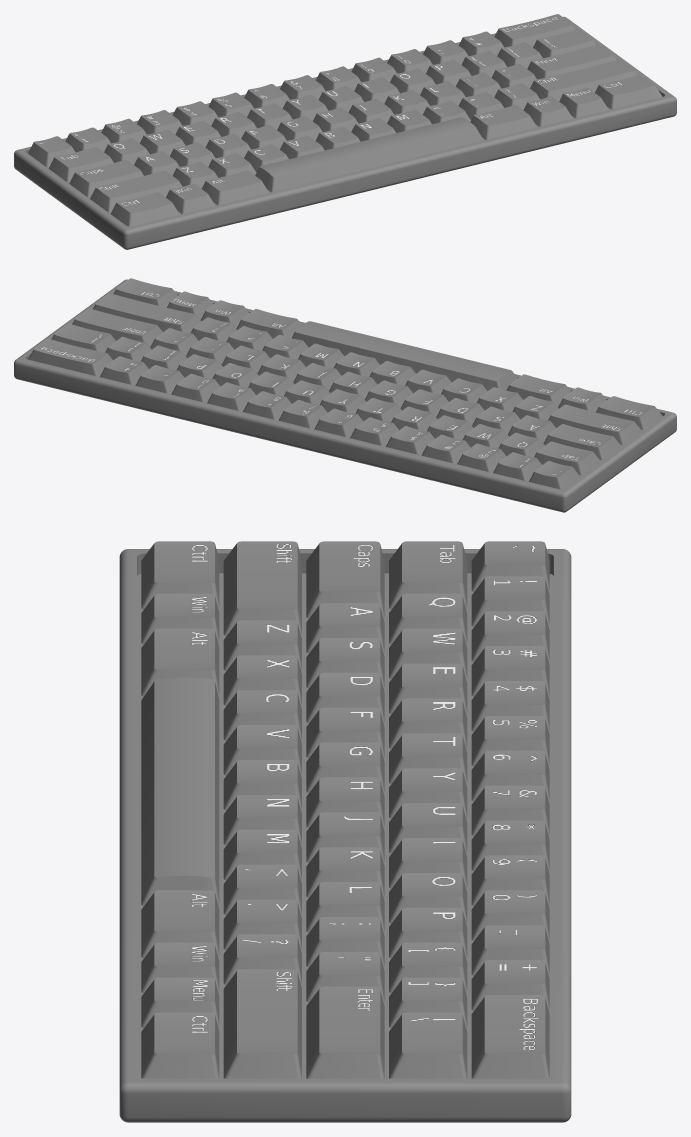
File: Keyboard.fbx
3 views of the same model, one above another, from view 1: azimuth 30°, elevation 25°; view 2: azimuth 150°, elevation 25°; view 3: azimuth 270°, elevation 25° (orthographic). The views are drawn at different scales.
Parts seen in each view (by area): view 1: keyboard_us_compact_horizontal_obj; view 2: keyboard_us_compact_horizontal_obj; view 3: keyboard_us_compact_horizontal_obj.
Part boxes in pixels (x1=…): keyboard_us_compact_horizontal_obj: x1=14, y1=14, x2=676, y2=249; keyboard_us_compact_horizontal_obj: x1=14, y1=278, x2=676, y2=512; keyboard_us_compact_horizontal_obj: x1=119, y1=541, x2=571, y2=1122.
Size of the model in its own units: 59.4 by 3.16 by 21.01.
Materials: 1 (1 with a texture image).
